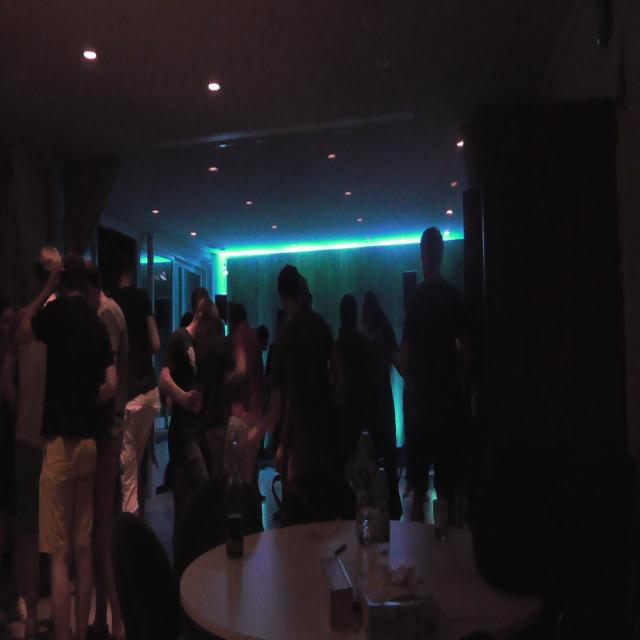Bottle: (337, 412, 372, 552), (216, 433, 248, 568), (371, 443, 392, 551)
People: (37, 254, 96, 615), (140, 240, 215, 495), (0, 214, 65, 481), (406, 211, 452, 490), (85, 217, 139, 436), (197, 264, 239, 504), (265, 228, 308, 459), (360, 268, 396, 436), (321, 283, 366, 412), (238, 269, 260, 493)
Table: (163, 505, 640, 640)
chair: (87, 486, 174, 640)
